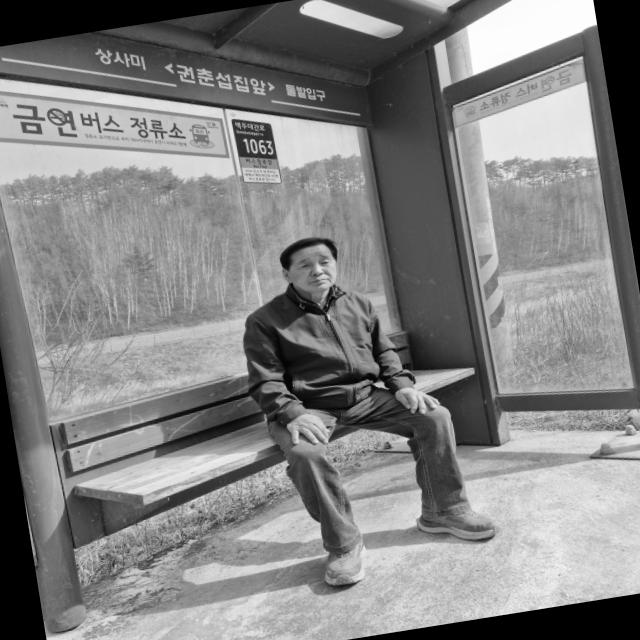person: (211, 191, 516, 581)
